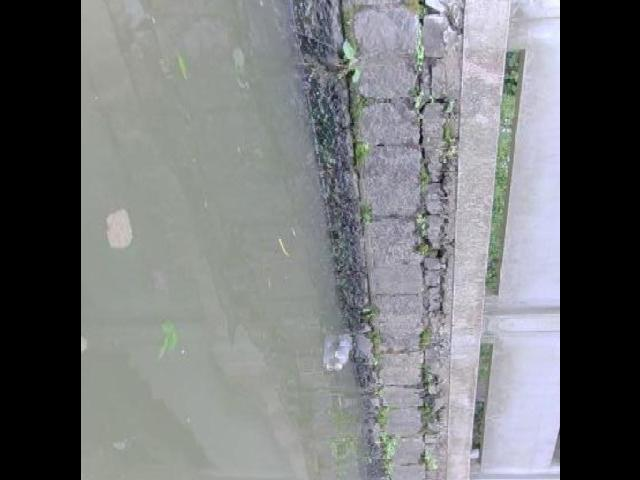Bottle: (327, 324, 356, 386)
